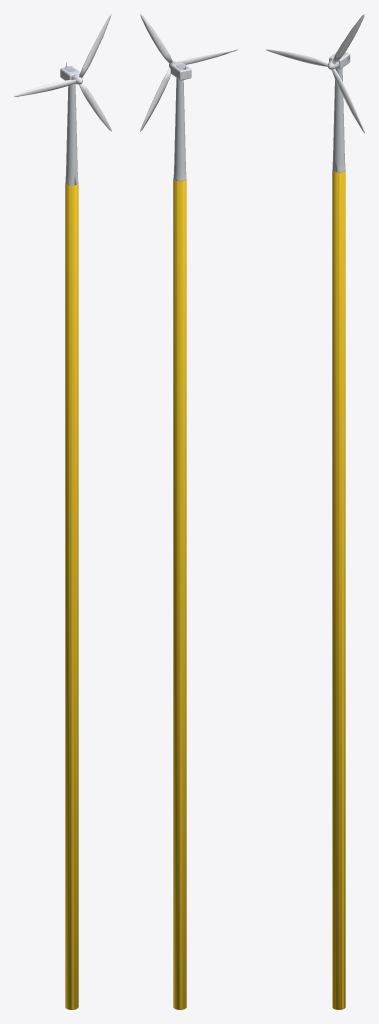
The model's file is SingleWindTurbine-original.fbx.
The picture shows the model from 3 angles, left to right: view 1: azimuth 30°, elevation 25°; view 2: azimuth 210°, elevation 25°; view 3: azimuth 330°, elevation 25°; orthographic projection.
Visible parts, largest first — view 1: Yellow foundation sleeve, Rotor blade 2, Tapered white tower; view 2: Yellow foundation sleeve, Rotor blade 2, Tapered white tower, Nacelle housing; view 3: Yellow foundation sleeve, Rotor blade 2, Tapered white tower.
Part boxes in pixels (x1,y1,x2,y2): Yellow foundation sleeve: [65, 183, 78, 1009]; Rotor blade 2: [14, 14, 111, 131]; Tapered white tower: [65, 83, 78, 185]; Yellow foundation sleeve: [173, 178, 186, 1009]; Rotor blade 2: [140, 14, 237, 131]; Tapered white tower: [173, 78, 186, 181]; Nacelle housing: [170, 62, 191, 80]; Yellow foundation sleeve: [332, 169, 345, 1009]; Rotor blade 2: [266, 14, 364, 133]; Tapered white tower: [332, 68, 345, 172].
Bounding box in the file's own units: 638 × 6204 × 176.
